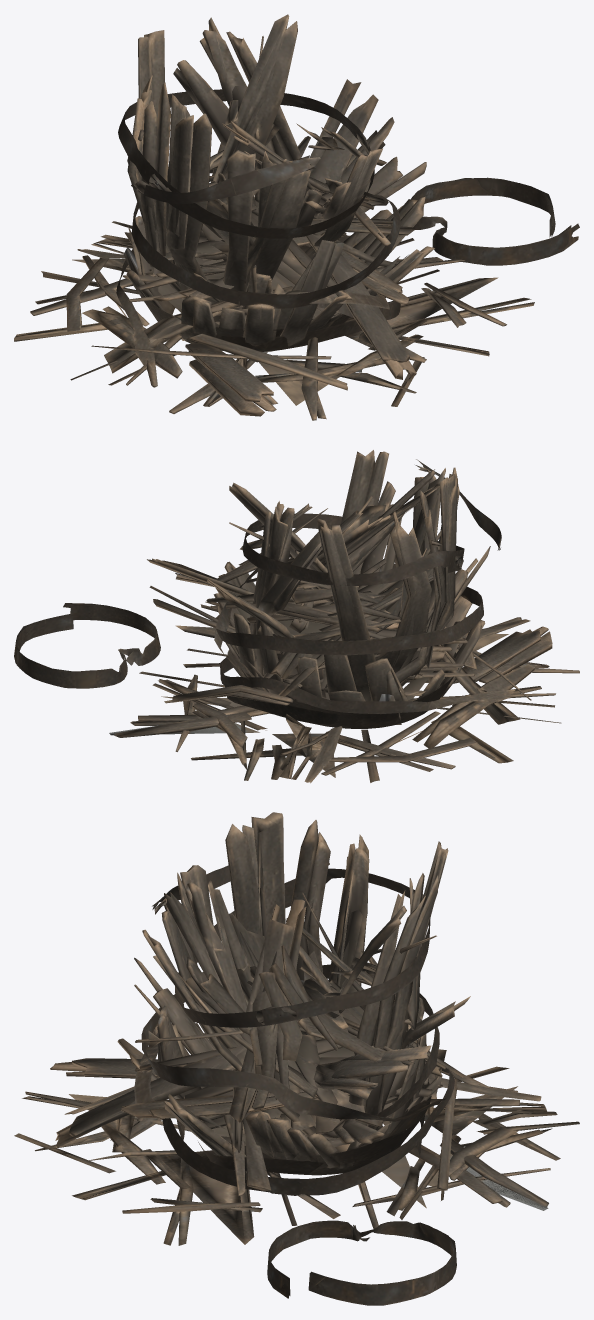
The model's file is des-barrels-rubble_optimized.glb.
3 renders of one model, top to bottom at view 1: azimuth 30°, elevation 25°; view 2: azimuth 150°, elevation 25°; view 3: azimuth 270°, elevation 25°, orthographic. The views are drawn at different scales.
Visible parts, largest first — view 1: Mesh_0; view 2: Mesh_0; view 3: Mesh_0.
Part boxes in pixels (left/top/right/bottom): Mesh_0: left=14, top=14, right=579, bottom=420; Mesh_0: left=14, top=450, right=579, bottom=783; Mesh_0: left=14, top=812, right=579, bottom=1305.
Bounding box in the file's own units: 0.9575 × 0.4312 × 0.8042.
Materials: 1 (1 with a texture image).
